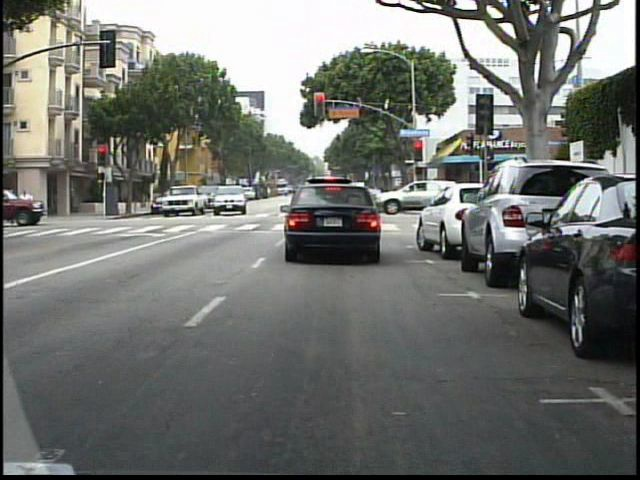person: (19, 185, 37, 211), (4, 188, 20, 194)
